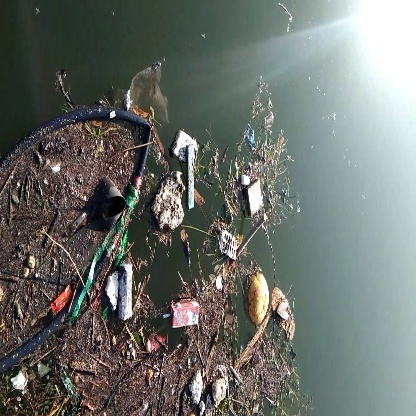plastic-bag: (119, 50, 182, 122)
